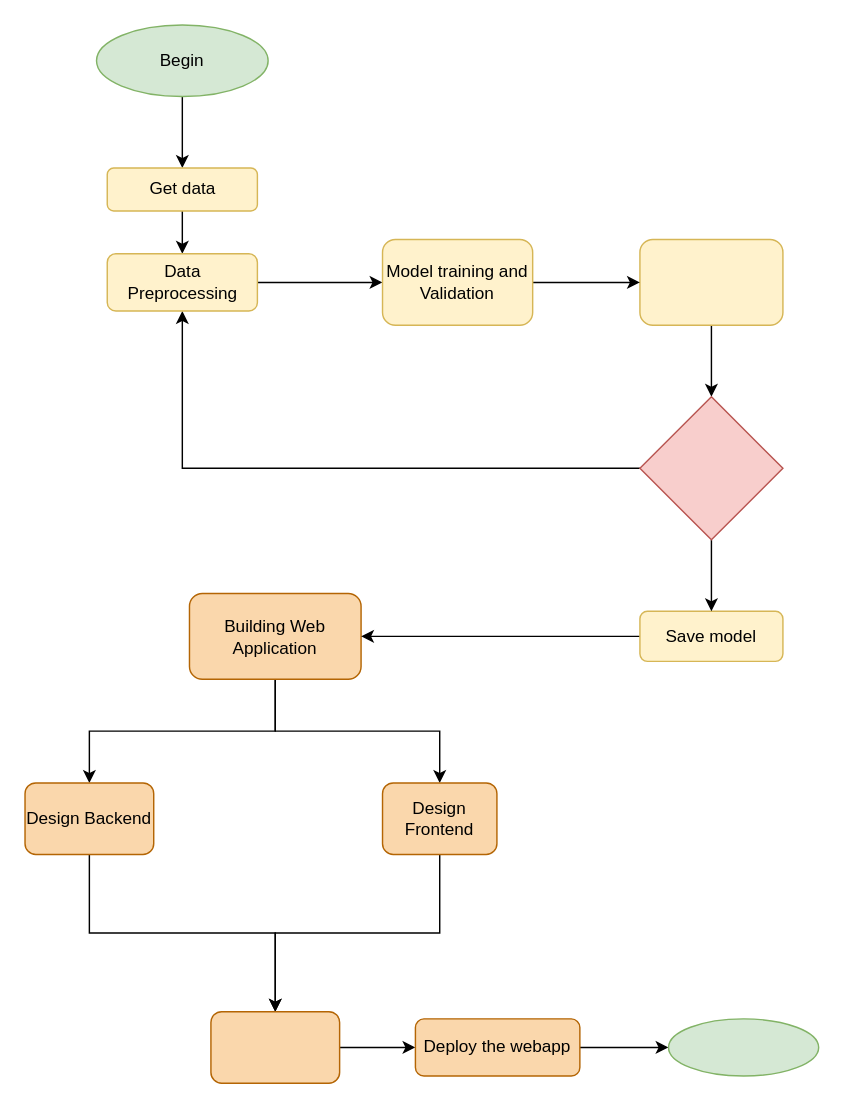
The diagram is 844 pixels wide and 1108 high, and some of its shapes have lost their labels. The shapes that lost their labels are listed below. From the top down, each one's centre as x and y in pixels, then its label:
At [710,281]: "Data visualisation and testing model".
At [710,467]: "Model optimization?".
At [274,1046]: "Testing app".
At [743,1046]: "End".
